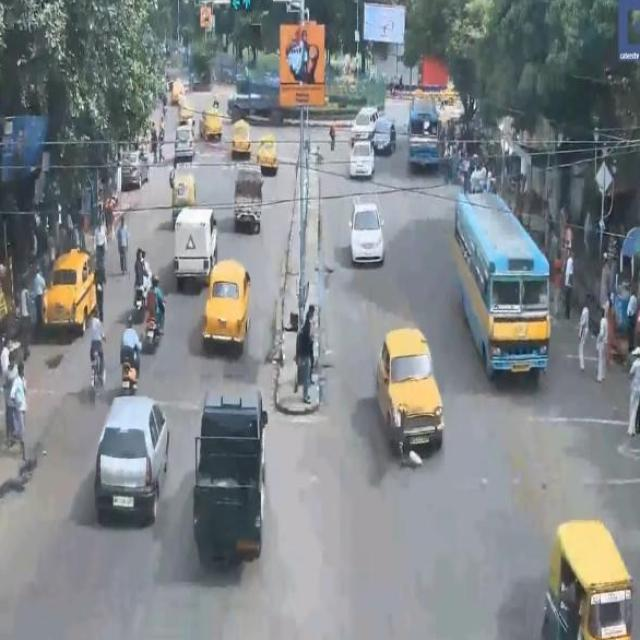accident: (374, 329, 450, 479)
